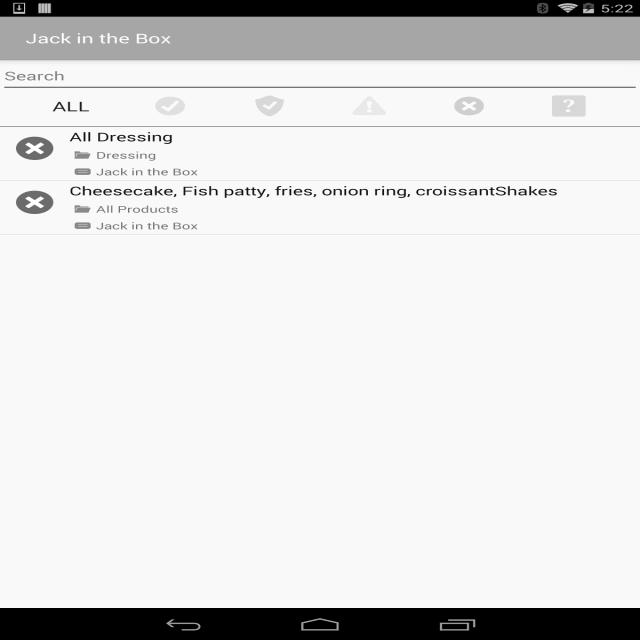Button: (22, 93, 120, 119)
EditText: (0, 59, 640, 93)
ImageButton: (420, 93, 518, 119), (520, 93, 618, 119), (221, 93, 318, 119), (321, 93, 418, 119), (122, 93, 218, 119)
ImageView: (16, 137, 53, 160), (16, 191, 53, 214), (74, 150, 90, 160), (74, 166, 90, 176), (74, 204, 90, 214), (74, 220, 90, 230)
TextView: (70, 126, 630, 146), (70, 180, 630, 200), (96, 163, 629, 180), (96, 217, 629, 234), (96, 147, 629, 163), (96, 201, 629, 217), (26, 29, 171, 47)
